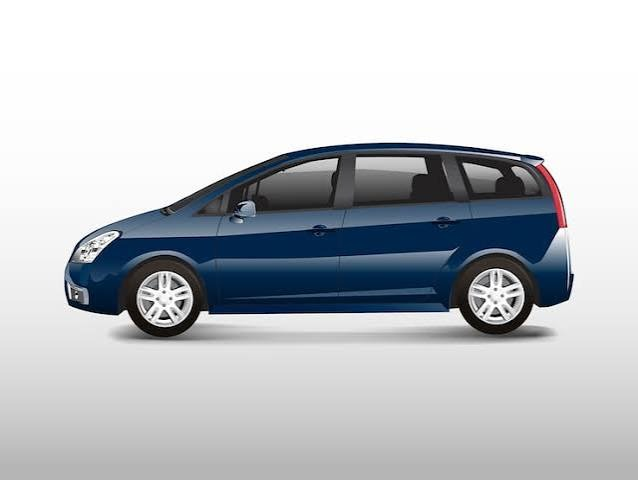car: (50, 142, 584, 335)
